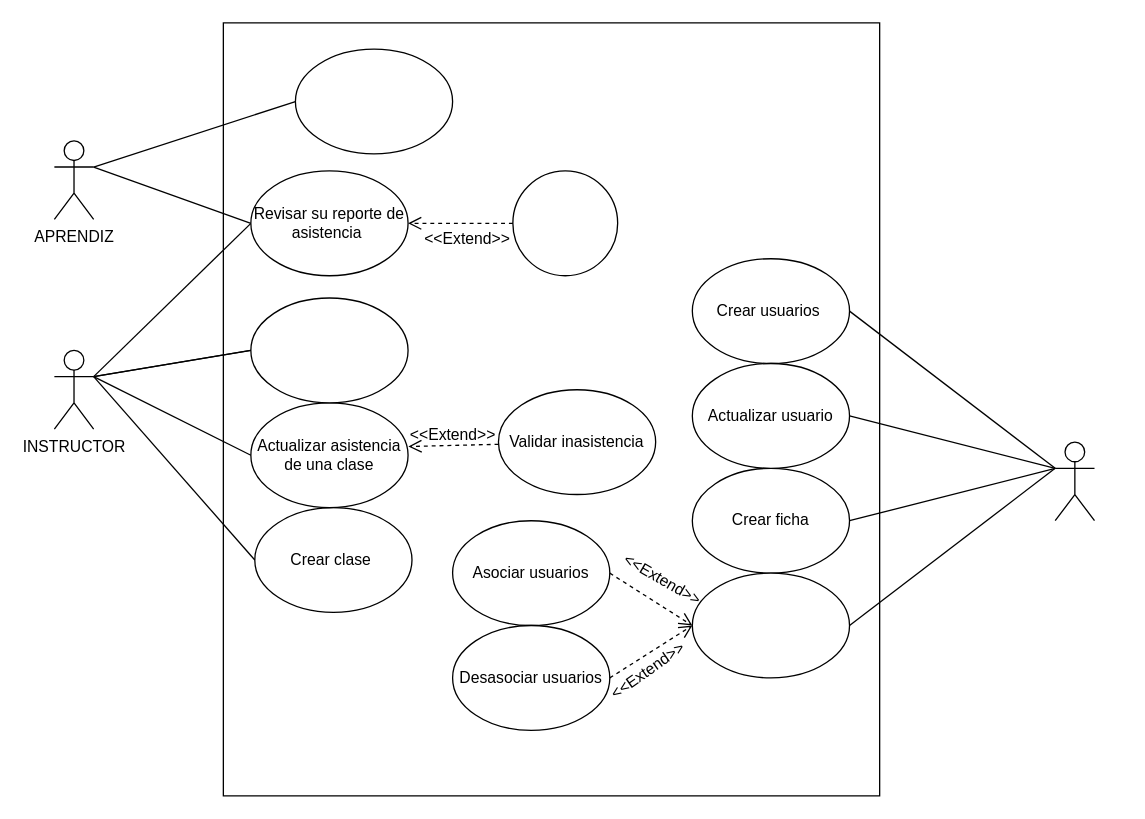
Some shapes in this 1145 by 819 pixel diagram are drawn without their labels. The centre of each missing label's shape, as x and y in pixels:
Actualizar clase: (329,350)
Actualizar referencias de ficha: (770,625)
Adjuntar excusa de inasistencia: (565,223)
Administrador: (1074,481)
Firma de asistencia código QR: (373,101)
